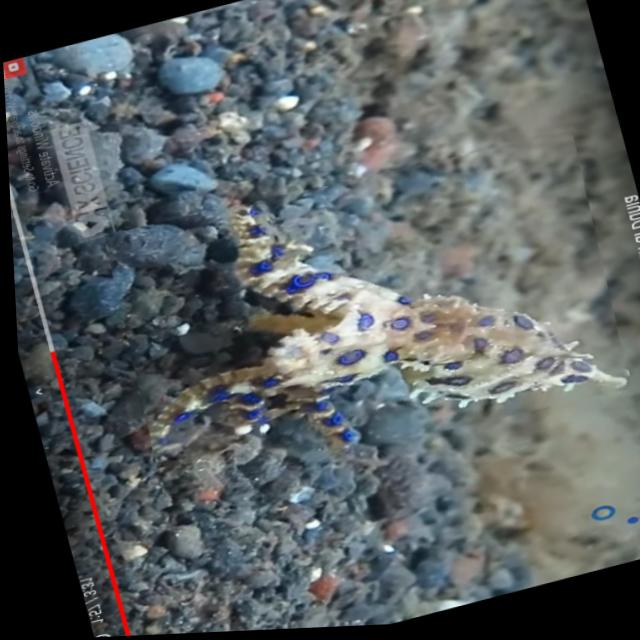blue_ringed_octopus: (91, 121, 636, 507)
